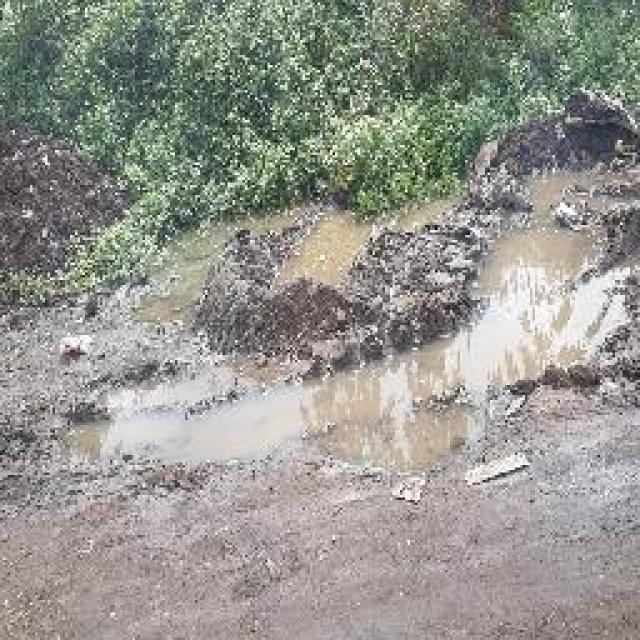waterlogging: (144, 357, 640, 477), (275, 194, 378, 293)
